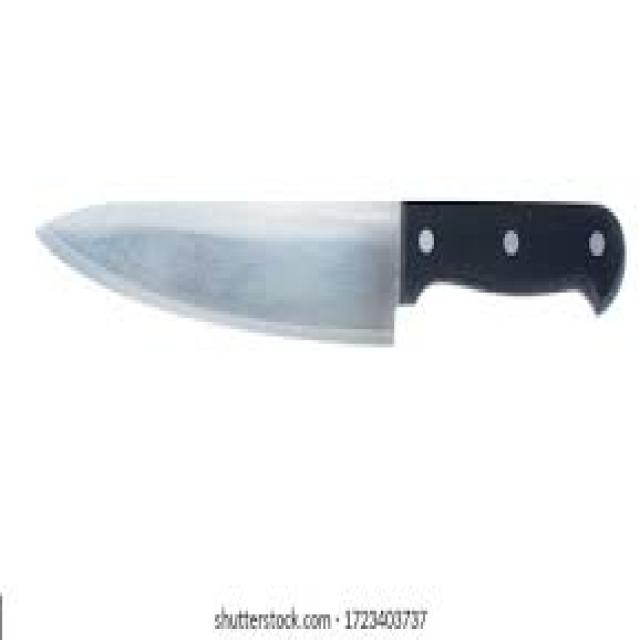Knife: (33, 194, 625, 344)
